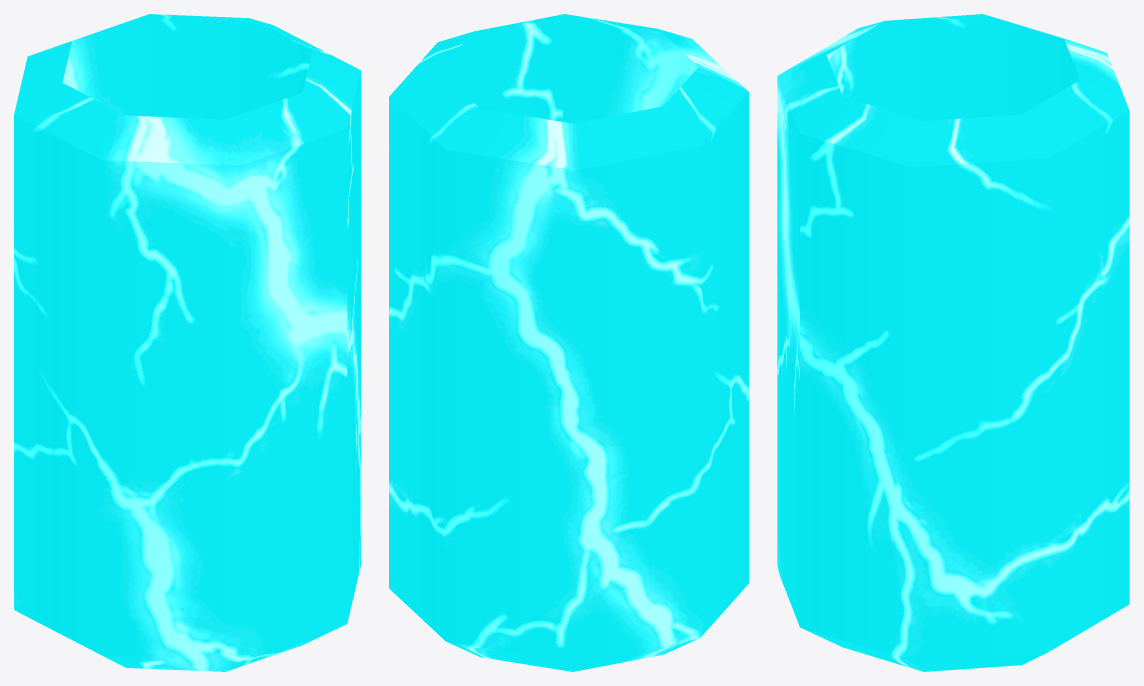
The model's file is finalBoss-reactors3Lightning.glb.
The picture shows the model from 3 angles, left to right: view 1: azimuth 30°, elevation 25°; view 2: azimuth 150°, elevation 25°; view 3: azimuth 270°, elevation 25°; orthographic projection.
Visible parts, largest first — view 1: reactor3Lightning; view 2: reactor3Lightning; view 3: reactor3Lightning.
Boxes of the visible parts, x1,y1,x2,y2 form: reactor3Lightning: (14,14,360,671); reactor3Lightning: (389,14,748,671); reactor3Lightning: (777,14,1129,671).
Size of the model in its own units: 0.5947 by 1.03 by 0.5947.
1 material, 1 textured.
